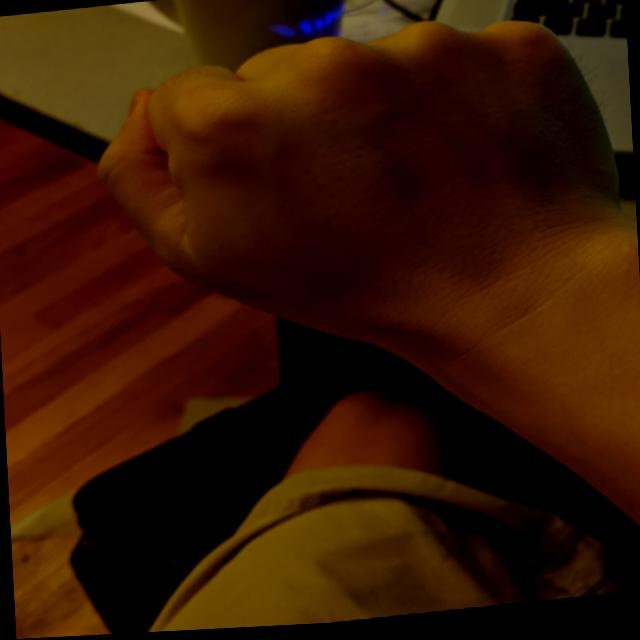A: (78, 0, 639, 372)
